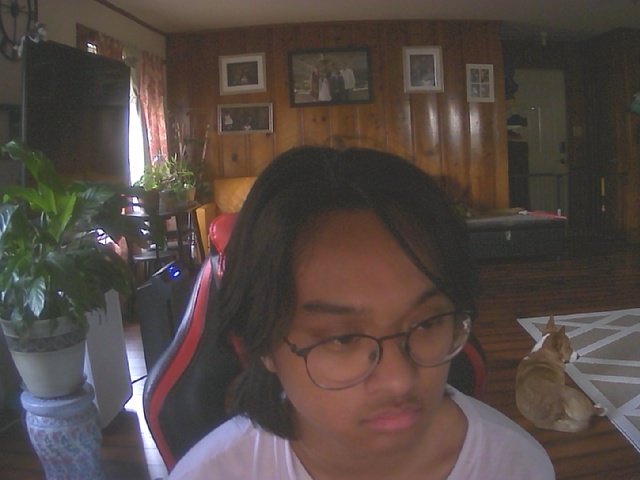neutral: (240, 150, 478, 459)
